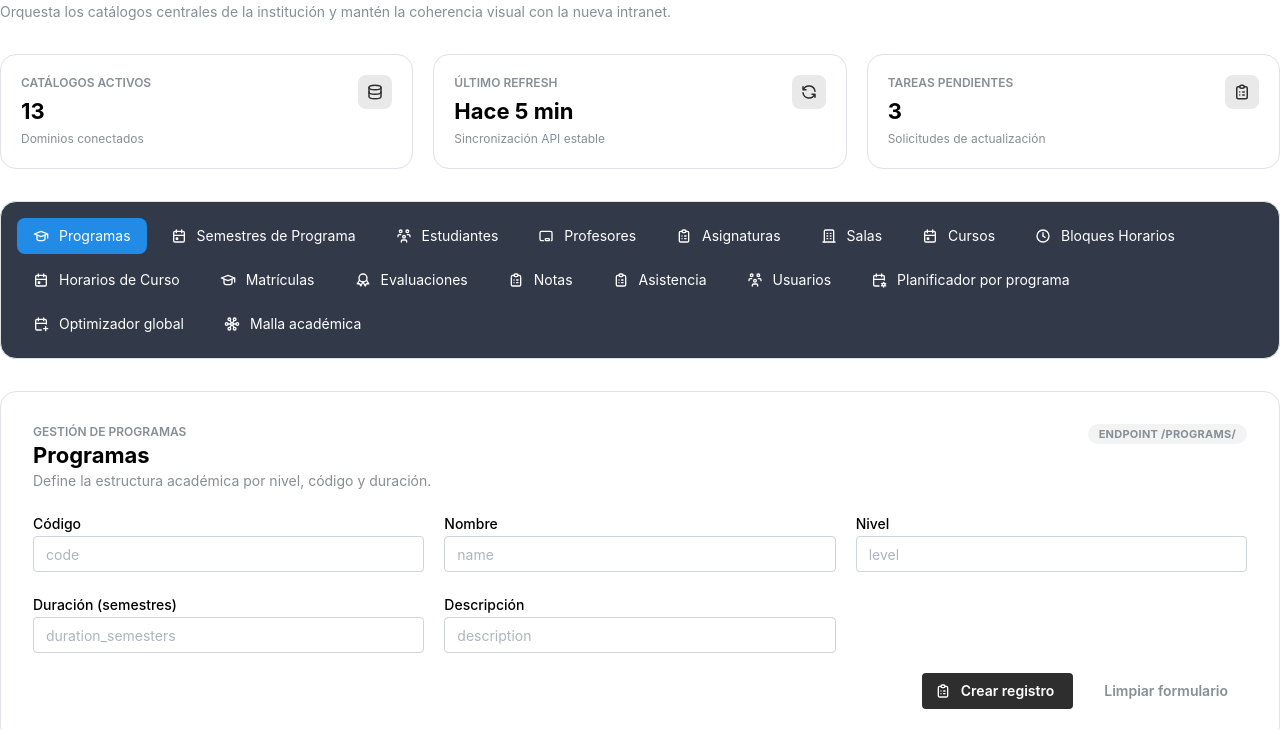
Admin CRUD básico › genera bloques masivos evitando duplicados existentes
Click the tab "Bloques Horarios".
click(1105, 236)  # box [1019,218,1191,254]
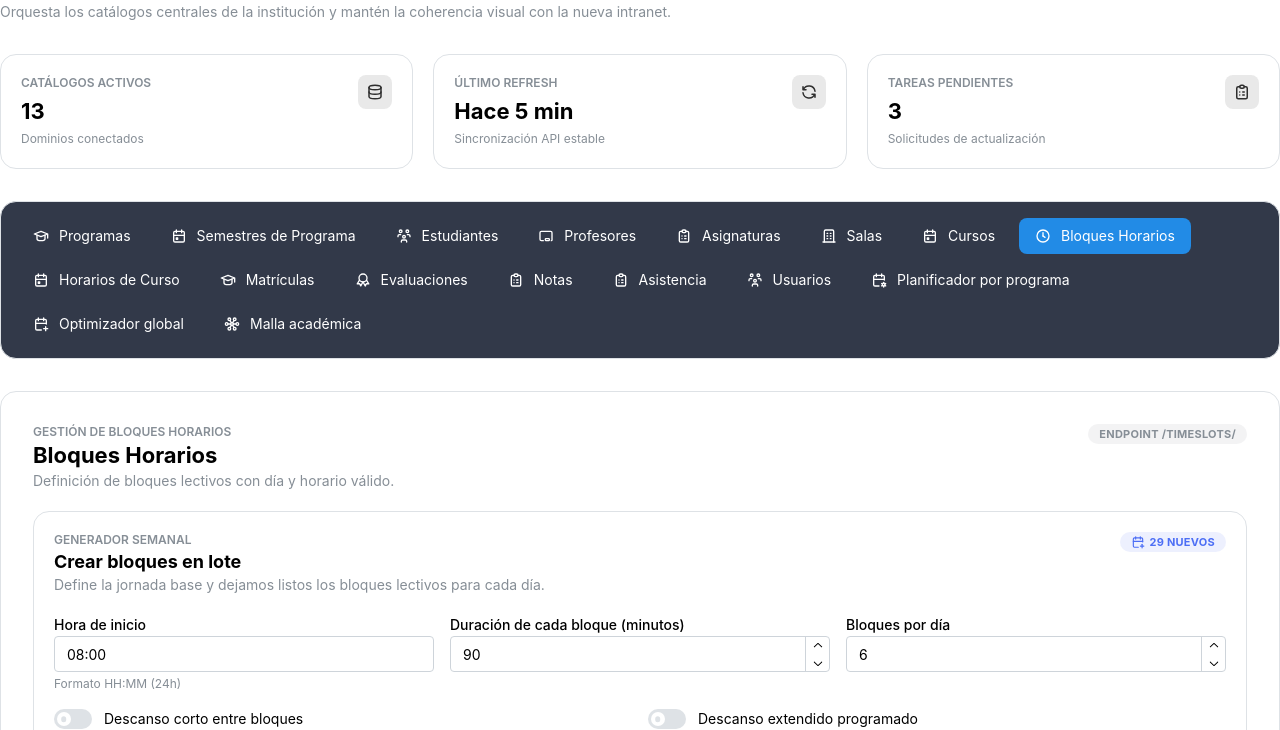
Expected: the heading "Crear bloques en lote" is shown, [54,551,241,572]
Replace the text in the field labelled "Bloques por día" with "1" at (1036, 654), box [846,636,1226,672]
(page scrolled)
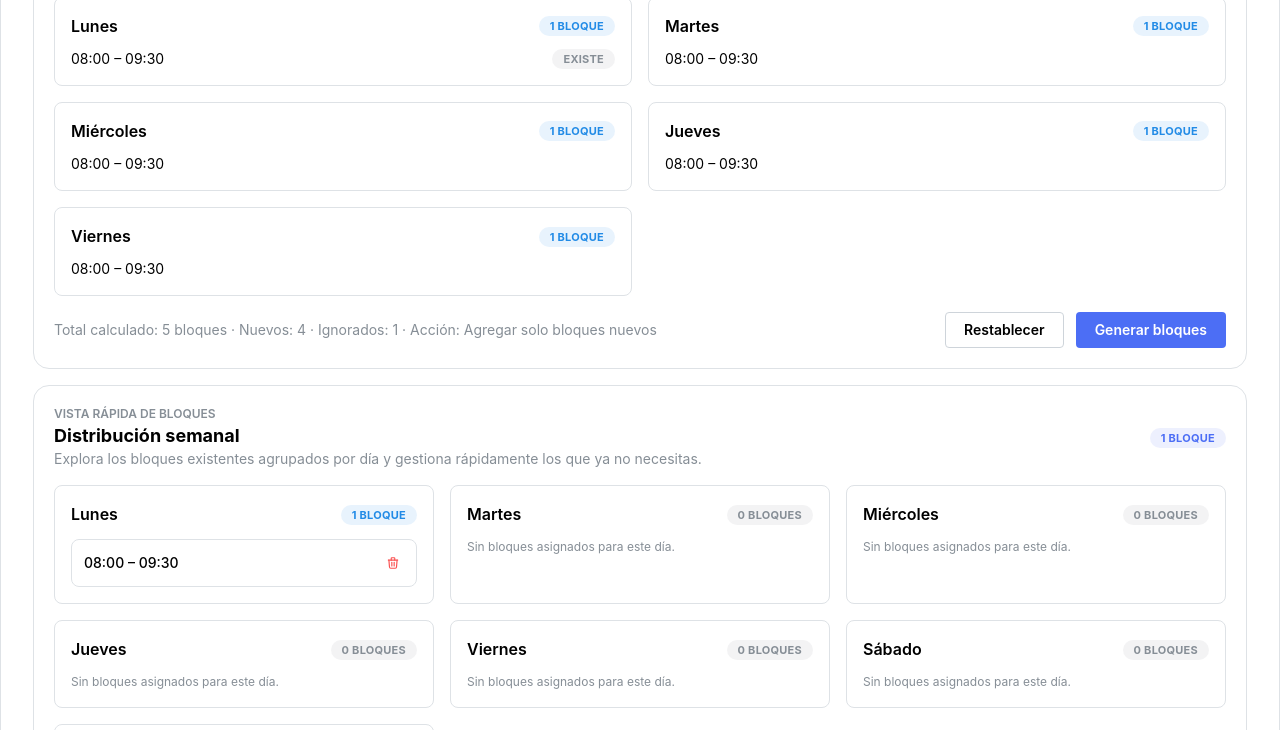
Expected: the text "Total calculado:" shows "Ignorados: 1", [54,320,657,340]
Expected: the text "Total calculado:" shows "Total calculado: 5 bloque", [54,320,657,340]
Expected: the text "Total calculado:" shows "Nuevos: 4", [239,321,306,338]
Click the button "Generar bloques".
click(1151, 330)  # box [1076,312,1226,348]
(page scrolled)
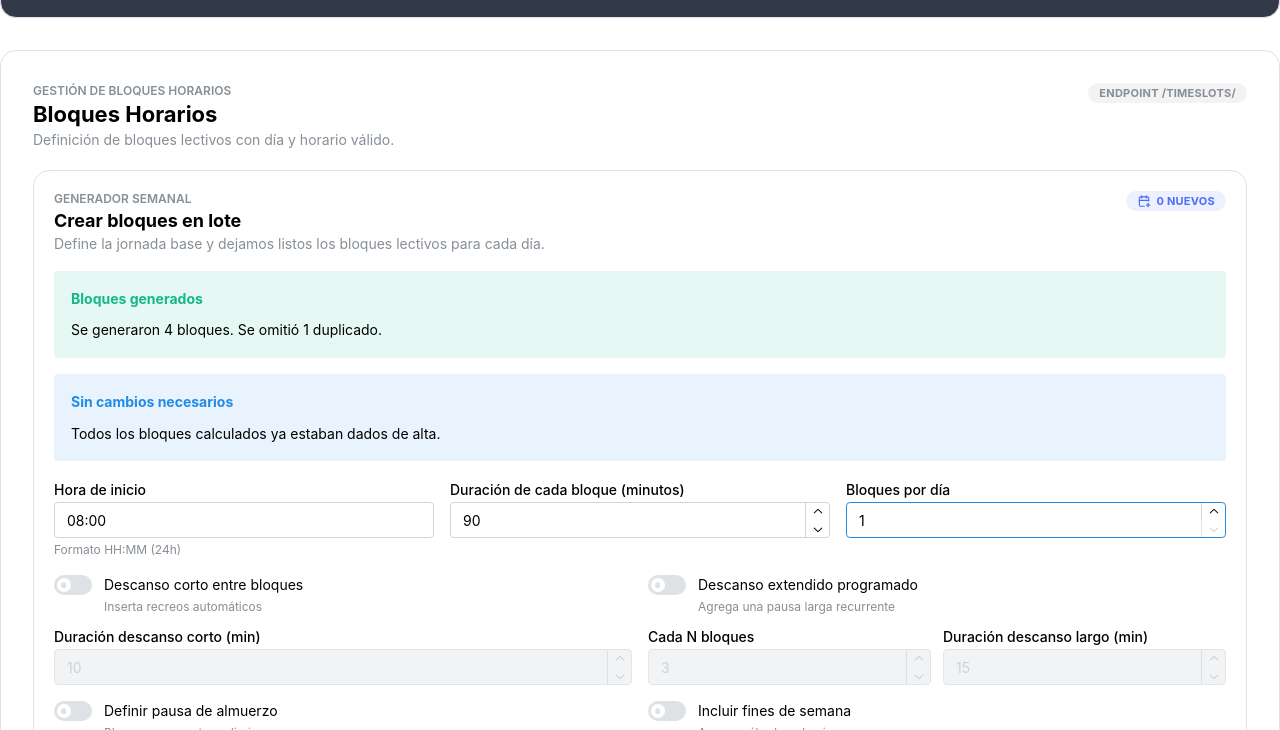
Expected: the text "Se generaron 4 bloques. Se omitió 1 duplicado." is shown, [71,321,382,338]
